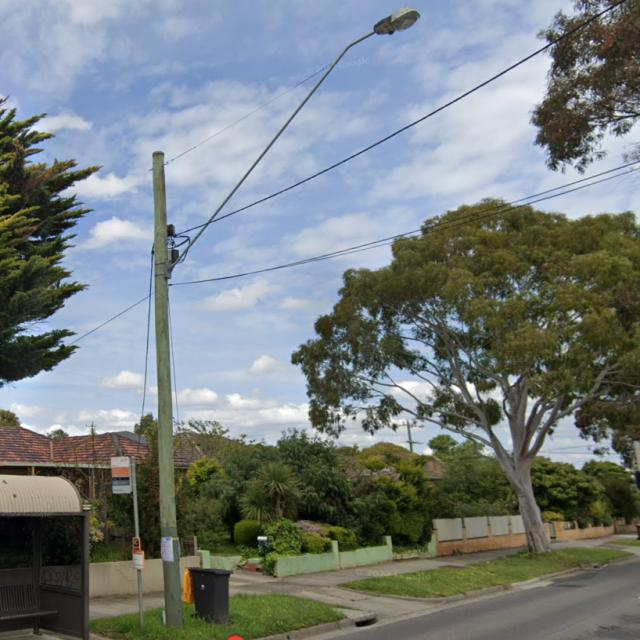streetlight: (165, 7, 423, 282)
timber-pole: (151, 150, 186, 631)
